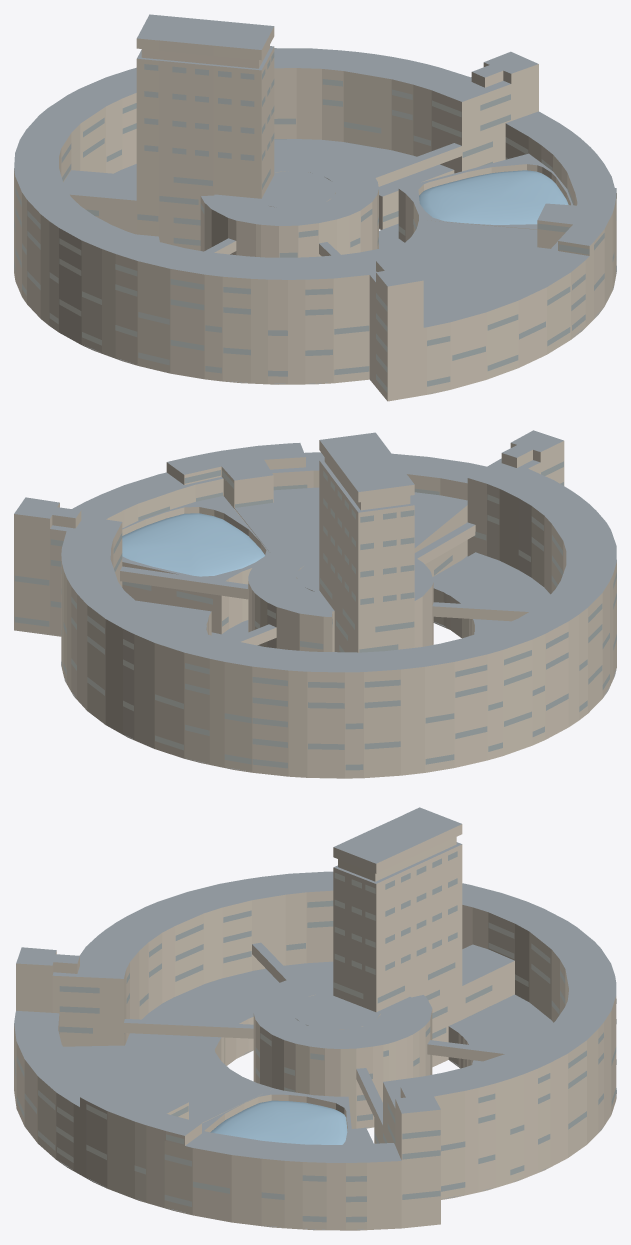
3 renders of one model, top to bottom at view 1: azimuth 30°, elevation 25°; view 2: azimuth 150°, elevation 25°; view 3: azimuth 270°, elevation 25°, orthographic.
Visible parts, largest first — view 1: stone, roof, window, glass; view 2: stone, roof, window, glass; view 3: stone, roof, window, glass.
Part boxes in pixels (left/top/right/bottom): stone: left=14, top=27, right=616, bottom=401; roof: left=14, top=14, right=616, bottom=393; window: left=14, top=52, right=616, bottom=392; glass: left=419, top=170, right=568, bottom=224; stone: left=14, top=440, right=616, bottom=778; roof: left=14, top=430, right=616, bottom=770; window: left=14, top=461, right=616, bottom=770; glass: left=122, top=513, right=264, bottom=576; stone: left=14, top=824, right=616, bottom=1230; roof: left=14, top=807, right=616, bottom=1229; window: left=14, top=851, right=616, bottom=1222; glass: left=210, top=1100, right=347, bottom=1144.
Size of the model in its own units: 162 by 68 by 162.
